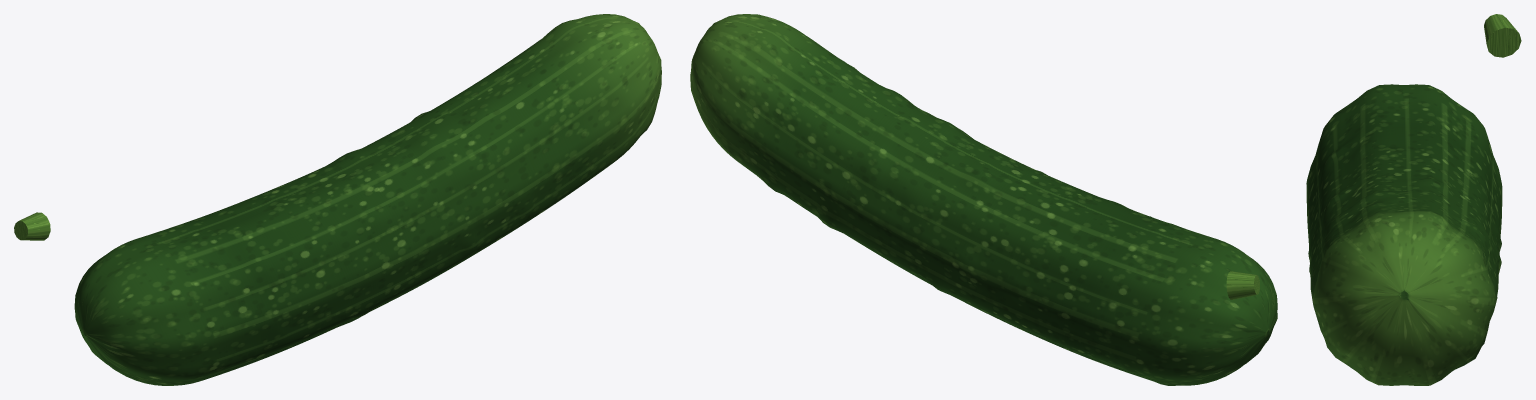
The model's file is Cucumber.glb.
3 views of the same model, side by side, from view 1: azimuth 30°, elevation 25°; view 2: azimuth 150°, elevation 25°; view 3: azimuth 270°, elevation 25° (orthographic). The views are drawn at different scales.
Parts seen in each view (by area): view 1: Cucumber_Body, Cucumber_Stem_Nub; view 2: Cucumber_Body, Cucumber_Stem_Nub; view 3: Cucumber_Body, Cucumber_Stem_Nub.
Part boxes in pixels (<box>): Cucumber_Body: <box>74,14,661,385</box>; Cucumber_Stem_Nub: <box>14,212,50,240</box>; Cucumber_Body: <box>690,14,1277,385</box>; Cucumber_Stem_Nub: <box>1226,271,1259,299</box>; Cucumber_Body: <box>1306,84,1502,385</box>; Cucumber_Stem_Nub: <box>1484,14,1521,57</box>.
Bounding box in the file's own units: 1.51 × 0.605 × 0.382.
Materials: 2 (2 with a texture image).
